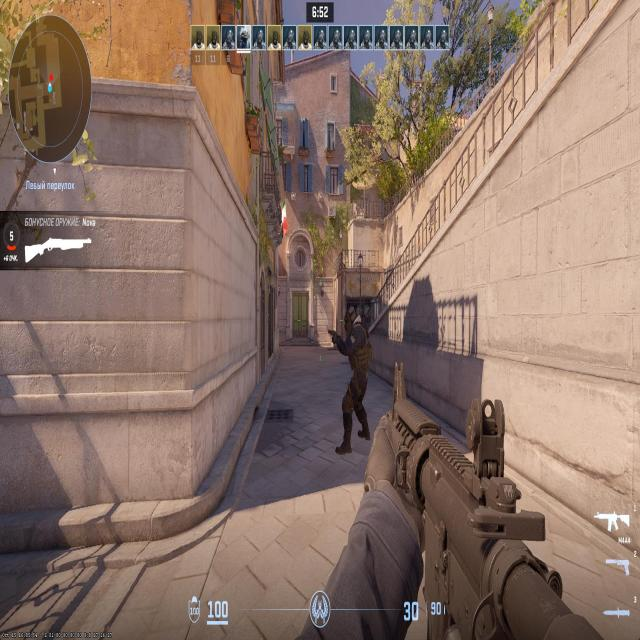CT: (340, 307, 366, 433)
CT_heat: (349, 309, 360, 326)
